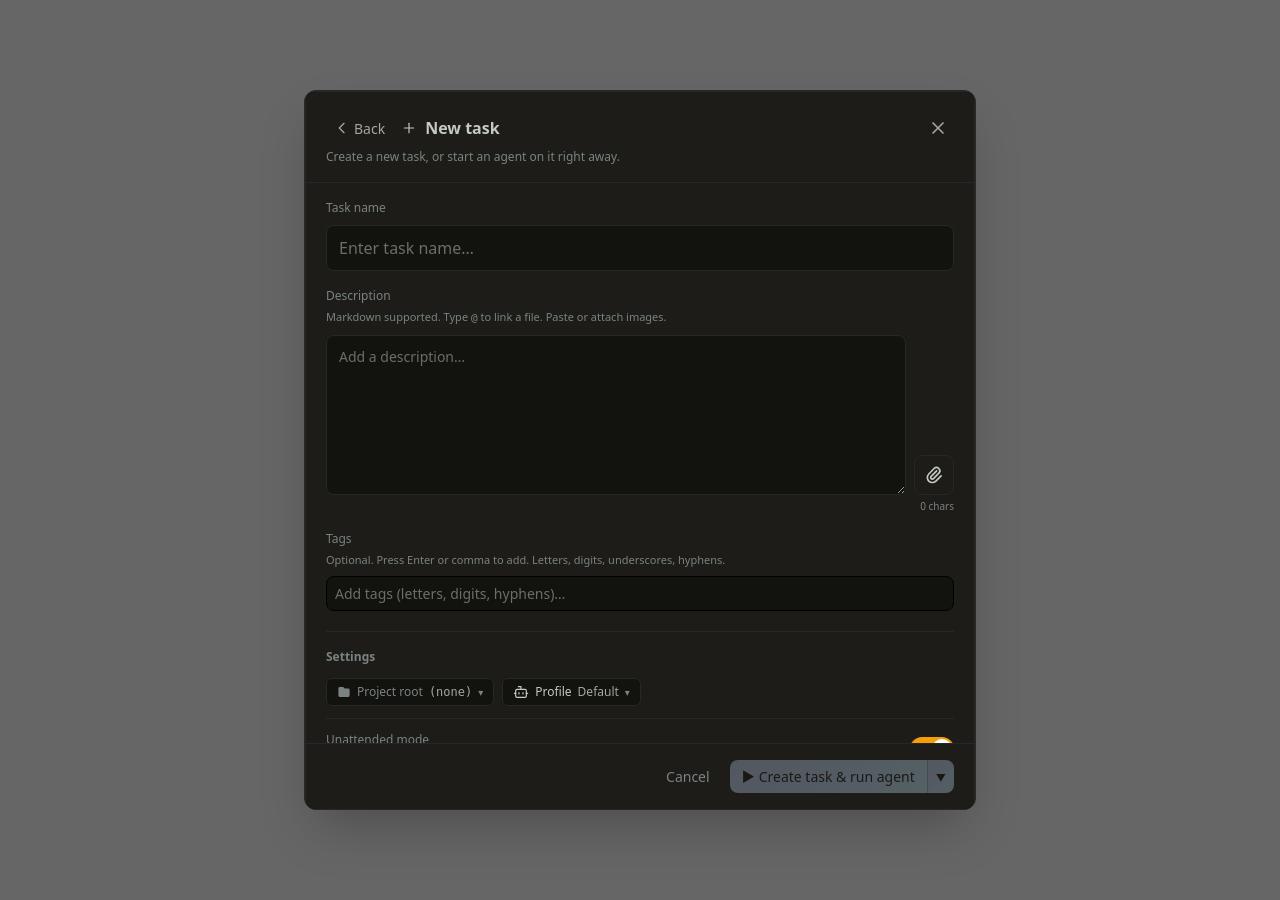
Test: KanbanTaskDetailDialog — profile picker › clicking the picker opens a dropdown with Default + each profile
Click the button with test id "kanban-task-detail-profile-picker". click: point(572, 692)
box: [502, 678, 641, 706]
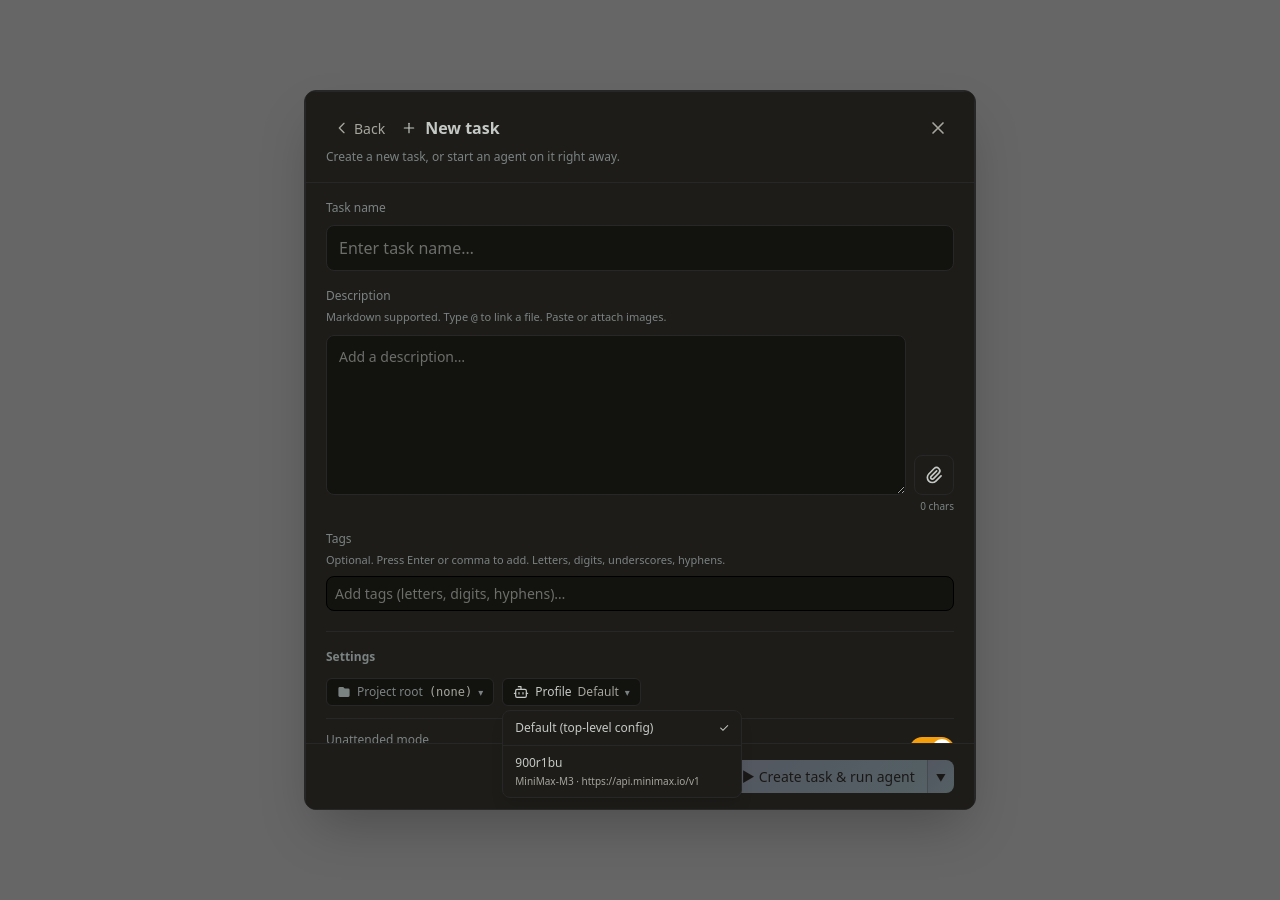
Now the element with test id "kanban-task-detail-profile-picker-dropdown" is shown, box [502, 710, 742, 798]
Now the button with test id "kanban-task-detail-profile-picker-item" shows "Default", box [503, 711, 741, 745]
Now the button with test id "kanban-task-detail-profile-picker-item" shows "900r1bu", box [503, 745, 741, 797]
